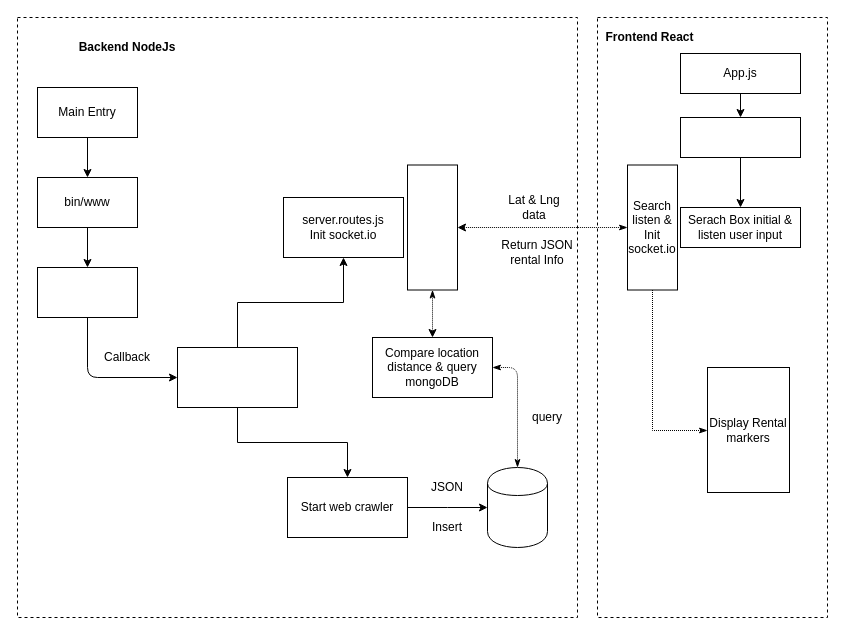
Some shapes in this 845 by 635 pixel diagram are drawn without their labels. Each missing label, with the centre of its shape:
"Init google map" belongs at point (740, 137).
"Init MongoDB" belongs at point (87, 292).
"MongoDB" belongs at point (517, 507).
"Server socket listen" belongs at point (432, 227).
"Start app, listen on port 2000" belongs at point (237, 377).
